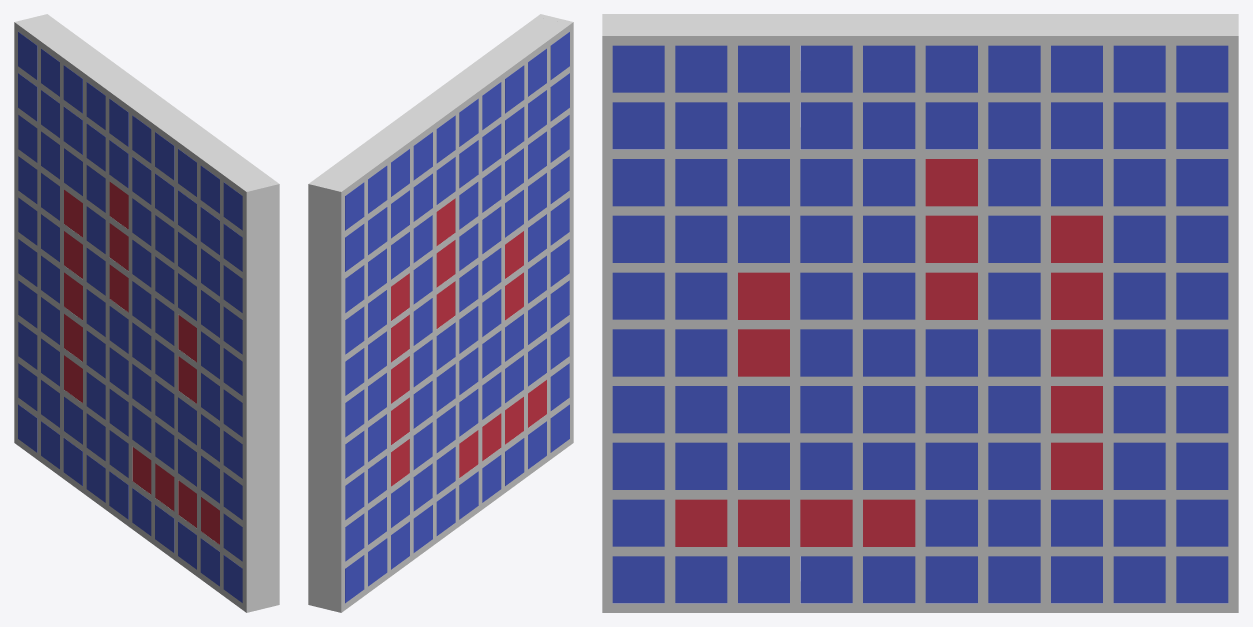
File: BATTLE_SHIP3.fbx
3 renders of one model, left to right at view 1: azimuth 30°, elevation 25°; view 2: azimuth 150°, elevation 25°; view 3: azimuth 270°, elevation 25°, orthographic. The views are drawn at different scales.
Visible parts, largest first — view 1: BOARD.001, SHIPS.003, SHIPS.004, SHIPS.007, SHIPS.008, SHIPS.009, SHIPS.002, SHIPS.005, SHIPS.010, SHIPS.012, SHIPS.014, SHIPS.001 (+3 smaller); view 2: BOARD.001, SHIPS.008, SHIPS.003, SHIPS.004, SHIPS.007, SHIPS.009, SHIPS.012, SHIPS.001, SHIPS.005, SHIPS.002, SHIPS.006, SHIPS.010 (+3 smaller); view 3: BOARD.001, SHIPS.003, SHIPS.001, SHIPS.004, SHIPS.007, SHIPS.008, SHIPS.009, SHIPS.002, SHIPS.005, SHIPS.006, SHIPS.010, SHIPS.011 (+3 smaller).
Part boxes in pixels (box(x1,y1,x2,y2)): BOARD.001: box(14, 14, 279, 612); SHIPS.003: box(155, 463, 174, 511); SHIPS.004: box(132, 447, 151, 494); SHIPS.007: box(109, 264, 128, 312); SHIPS.008: box(109, 223, 128, 270); SHIPS.009: box(109, 182, 128, 229); SHIPS.002: box(178, 480, 196, 527); SHIPS.005: box(178, 356, 196, 403); SHIPS.010: box(64, 190, 82, 237); SHIPS.012: box(64, 272, 82, 320); SHIPS.014: box(64, 314, 82, 361); SHIPS.001: box(201, 497, 219, 544); BOARD.001: box(308, 14, 573, 612); SHIPS.008: box(436, 240, 455, 287); SHIPS.003: box(482, 413, 501, 460); SHIPS.004: box(459, 430, 478, 477); SHIPS.007: box(436, 281, 455, 328); SHIPS.009: box(436, 198, 455, 245); SHIPS.012: box(391, 356, 409, 403); SHIPS.001: box(528, 380, 546, 427); SHIPS.005: box(505, 272, 523, 320); SHIPS.002: box(505, 397, 523, 444); SHIPS.006: box(505, 231, 523, 278); SHIPS.010: box(391, 273, 409, 320); BOARD.001: box(602, 14, 1238, 612); SHIPS.003: box(800, 499, 852, 546); SHIPS.001: box(675, 499, 727, 546); SHIPS.004: box(863, 499, 915, 546); SHIPS.007: box(925, 272, 977, 319); SHIPS.008: box(925, 215, 977, 262); SHIPS.009: box(925, 159, 977, 206); SHIPS.002: box(738, 499, 789, 546); SHIPS.005: box(738, 329, 789, 376); SHIPS.006: box(738, 272, 789, 319); SHIPS.010: box(1051, 215, 1102, 262); SHIPS.011: box(1051, 272, 1102, 319).
Bounding box in the file's own units: 1.01 × 12.2 × 12.2.
